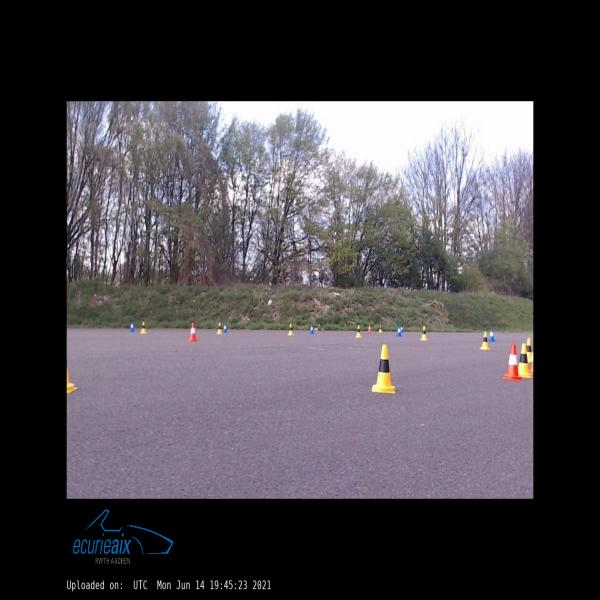blue_cone: (488, 328, 495, 341), (397, 325, 402, 336), (223, 323, 227, 333), (130, 322, 134, 331), (310, 325, 314, 334), (400, 324, 404, 332)
orange_cone: (502, 344, 522, 380), (188, 321, 198, 340), (530, 347, 534, 374), (368, 324, 372, 332)
yellow_cone: (372, 345, 396, 391), (518, 344, 530, 377), (480, 332, 490, 349), (526, 338, 532, 362), (420, 326, 428, 340), (356, 325, 362, 338), (141, 321, 146, 333), (217, 322, 222, 334), (288, 324, 293, 335), (378, 324, 382, 332)
